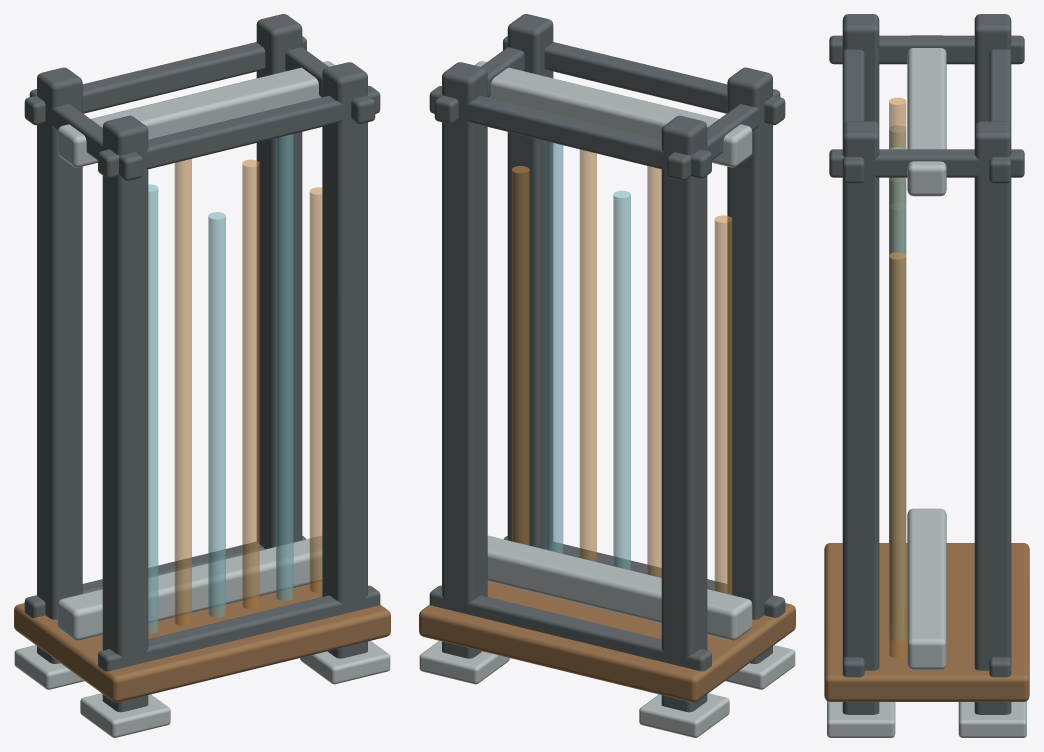
Rendered from glassblowing-studio-and-gallery-rod-storage-3a2d84e8__29618.glb.
3 views of the same model, side by side, from view 1: azimuth 30°, elevation 25°; view 2: azimuth 150°, elevation 25°; view 3: azimuth 270°, elevation 25° (orthographic).
Visible parts, largest first — view 1: rod-storage; view 2: rod-storage; view 3: rod-storage.
Boxes of the visible parts, x1,y1,x2,y2 form: rod-storage: [14, 14, 390, 737]; rod-storage: [419, 14, 795, 737]; rod-storage: [824, 14, 1029, 737].
Size of the model in its own units: 0.6601 by 1.35 by 0.42.
